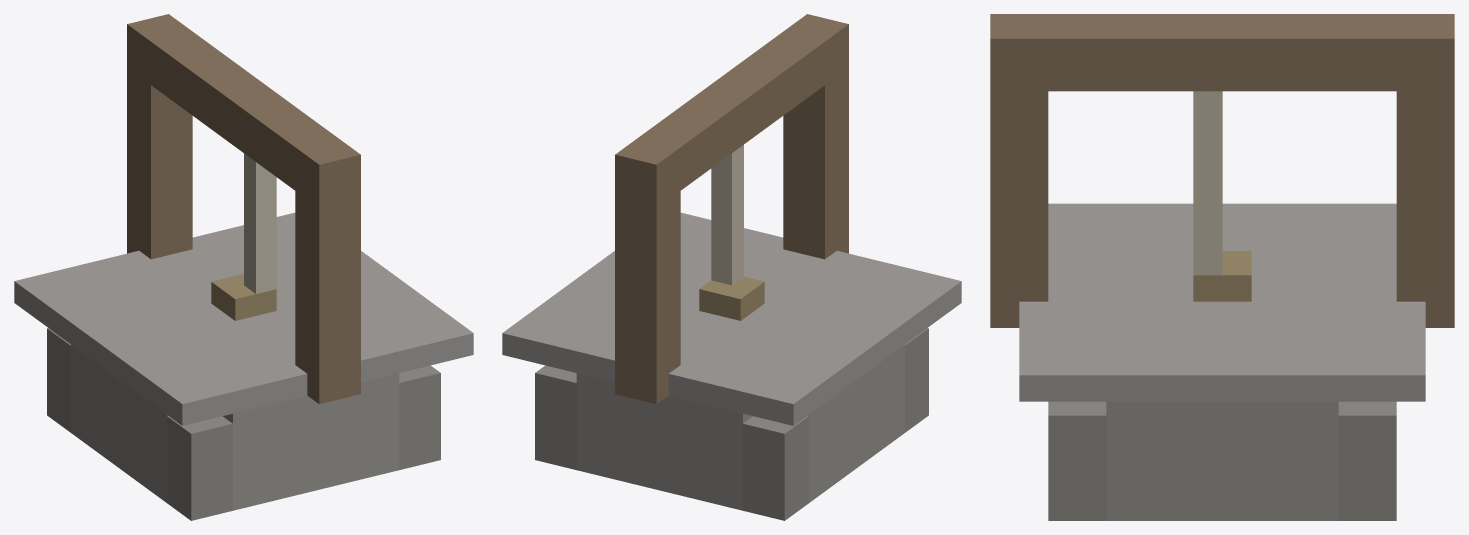
File: pozo_agua_02.glb
The picture shows the model from 3 angles, left to right: view 1: azimuth 30°, elevation 25°; view 2: azimuth 150°, elevation 25°; view 3: azimuth 270°, elevation 25°; orthographic projection. The views are drawn at different scales.
Parts seen in each view (by area): view 1: pozo_agua_02; view 2: pozo_agua_02; view 3: pozo_agua_02.
Boxes of the visible parts, x1,y1,x2,y2 form: pozo_agua_02: [14, 14, 473, 520]; pozo_agua_02: [502, 14, 961, 520]; pozo_agua_02: [990, 14, 1454, 520].
Size of the model in its own units: 1.4 by 1.6 by 1.6.
